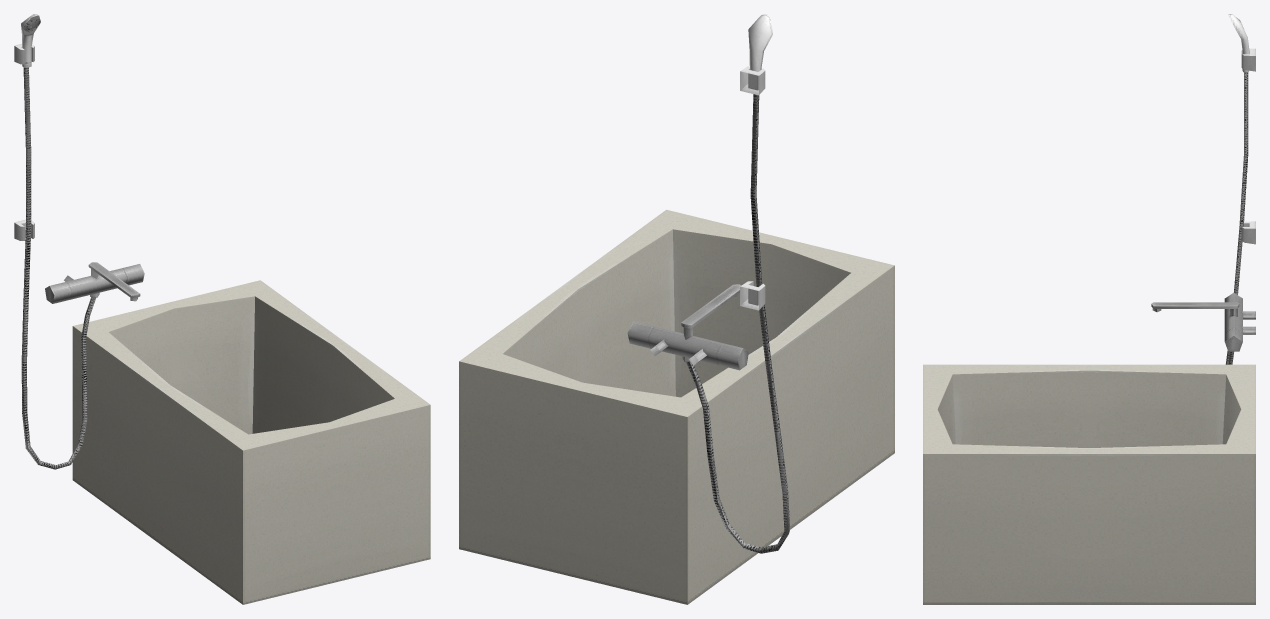
File: Tub.glb
The picture shows the model from 3 angles, left to right: view 1: azimuth 30°, elevation 25°; view 2: azimuth 150°, elevation 25°; view 3: azimuth 270°, elevation 25°; orthographic projection. The views are drawn at different scales.
Parts seen in each view (by area): view 1: tub, shower head, bath faucet.003, bath faucet.001; view 2: tub, shower head, bath faucet.003, bath faucet.001, shower holder.002, shower holder.001; view 3: tub, shower head, bath faucet.003, bath faucet.001.
Part boxes in pixels (x1,y1,x2,y2): tub: (72,280,430,604); shower head: (21,14,96,469); bath faucet.003: (45,264,144,303); bath faucet.001: (88,262,140,301); tub: (459,209,894,604); shower head: (686,14,789,553); bath faucet.003: (627,321,748,370); bath faucet.001: (681,284,740,339); shower holder.002: (740,281,765,310); shower holder.001: (740,66,765,95); tub: (923,364,1255,604); shower head: (1225,14,1249,364); bath faucet.003: (1224,292,1255,351); bath faucet.001: (1151,302,1239,316).
Size of the model in its own units: 0.9469 by 1.74 by 1.1.
Materials: 2 (2 with a texture image).
